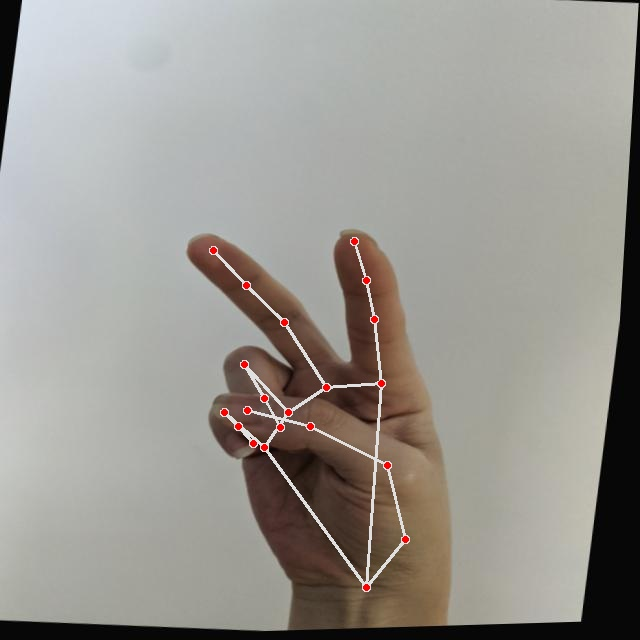V: (143, 212, 506, 606)
